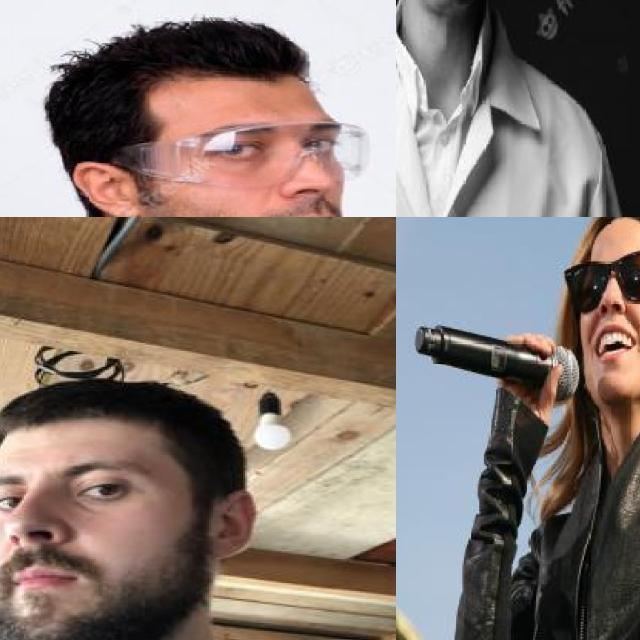No_Ear-Protection: (190, 477, 270, 566), (69, 158, 147, 217)
No_Glasses: (0, 459, 177, 531)
face_nomask: (0, 453, 177, 640), (210, 118, 357, 217), (576, 263, 640, 376)
glasses: (86, 117, 372, 183), (564, 250, 640, 321)
hand_noglove: (497, 327, 565, 404)
head_nohelmet: (75, 11, 333, 106), (0, 375, 179, 450), (572, 217, 640, 263)
person: (0, 386, 396, 640), (0, 20, 396, 217), (456, 217, 640, 640), (396, 0, 640, 217)
